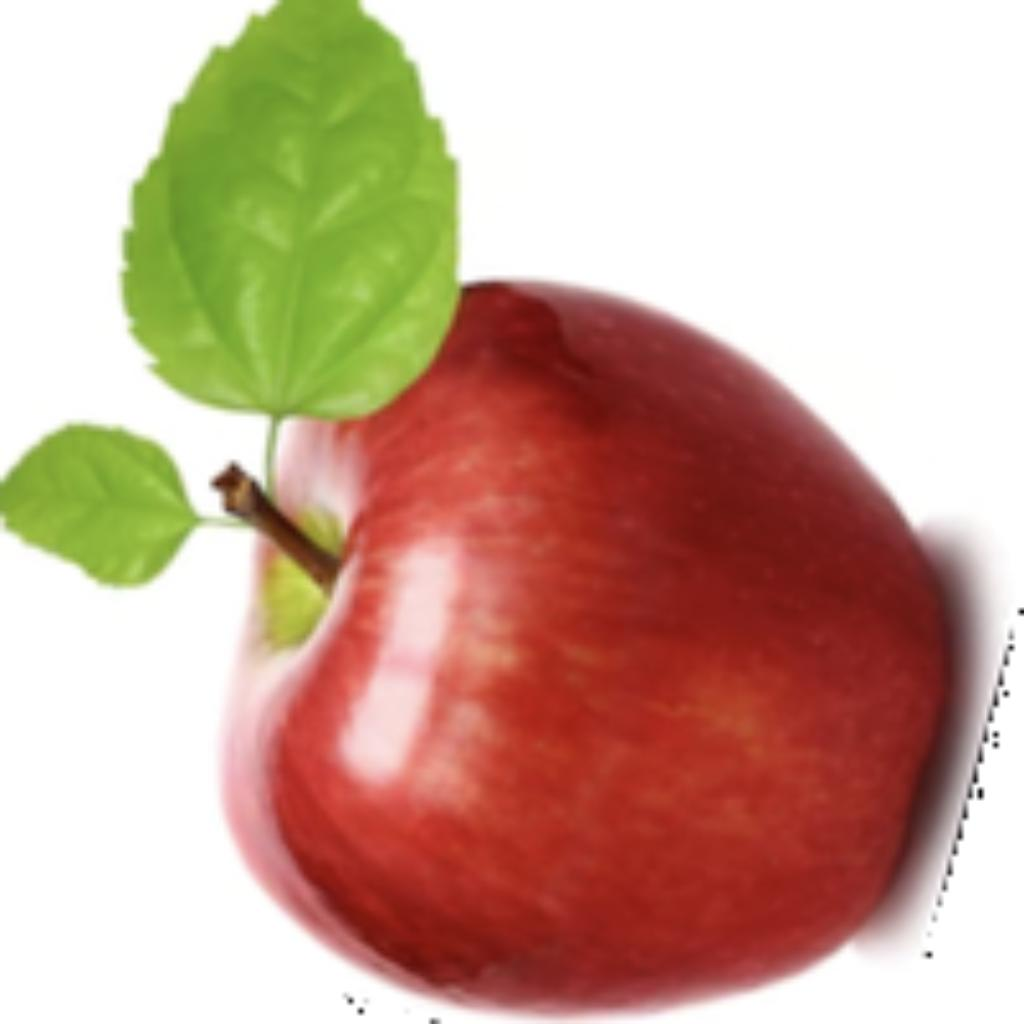apple: (113, 0, 1019, 1019)
